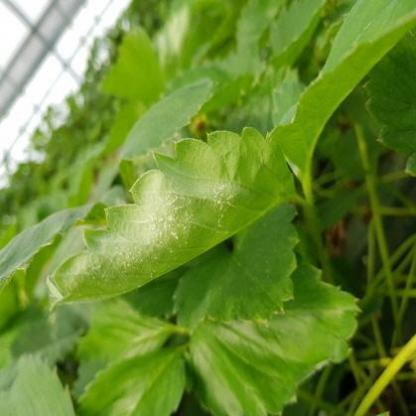Strawberry_Powdery_Mildew_Leaf: (46, 125, 298, 312)
